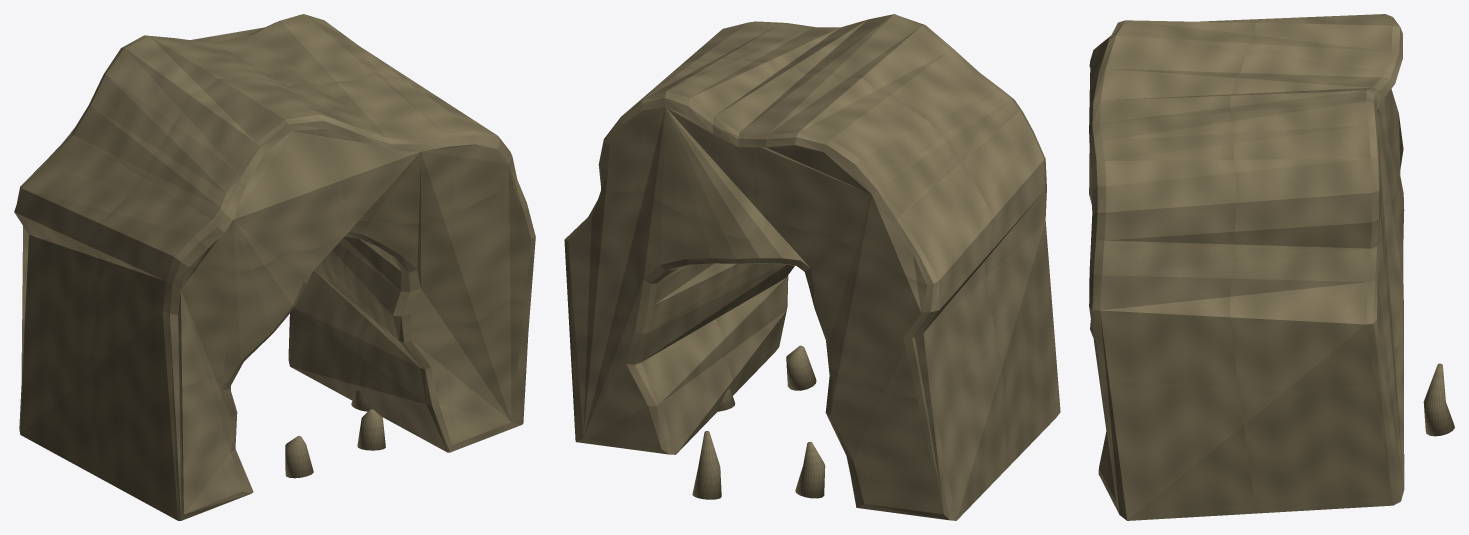
Rendered from giant_hollow_stump_swamp_and_mangrove_22657.glb.
3 views of the same model, side by side, from view 1: azimuth 30°, elevation 25°; view 2: azimuth 150°, elevation 25°; view 3: azimuth 270°, elevation 25° (orthographic). The views are drawn at different scales.
Parts seen in each view (by area): view 1: giant-hollow-stump; view 2: giant-hollow-stump; view 3: giant-hollow-stump.
Boxes of the visible parts, box(x1,y1,x2,y2) form: giant-hollow-stump: box(14, 14, 535, 520); giant-hollow-stump: box(564, 14, 1060, 520); giant-hollow-stump: box(1089, 14, 1454, 520).
Size of the model in its own units: 3.43 by 3.09 by 2.68.
Materials: 1 (1 with a texture image).
